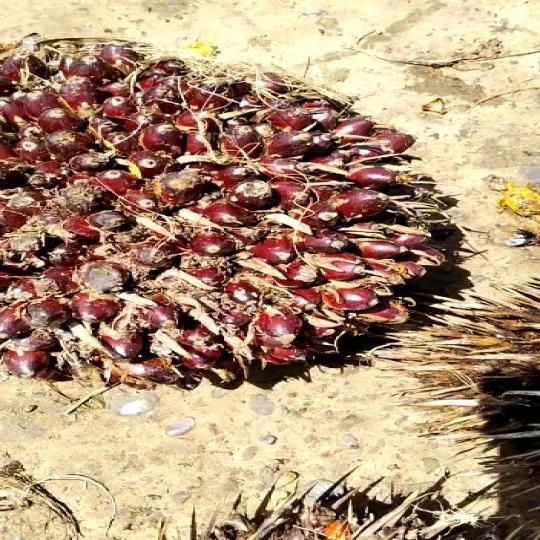kurang masak: (0, 17, 462, 395)
